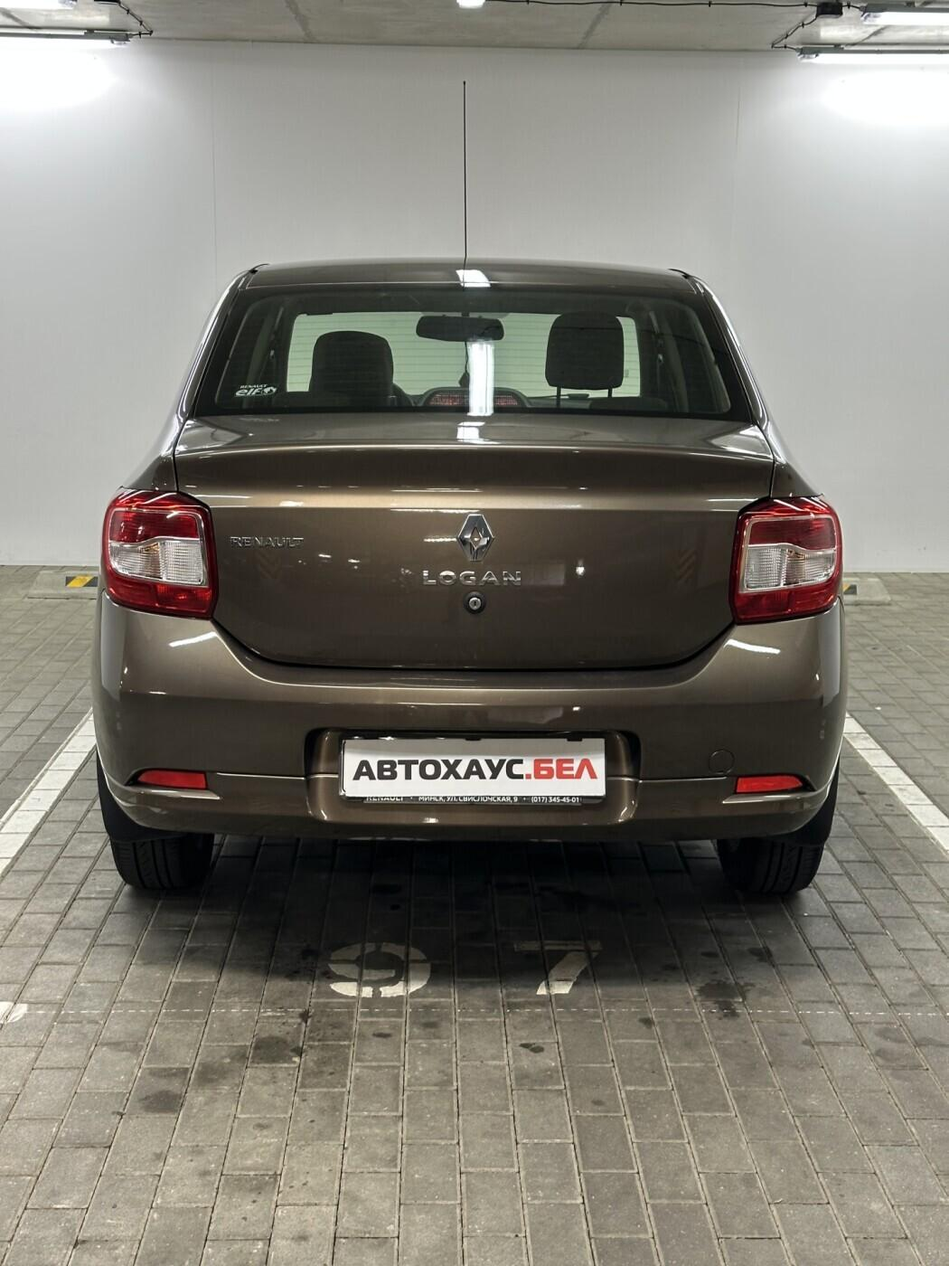Logan_2018: (90, 251, 851, 935)
